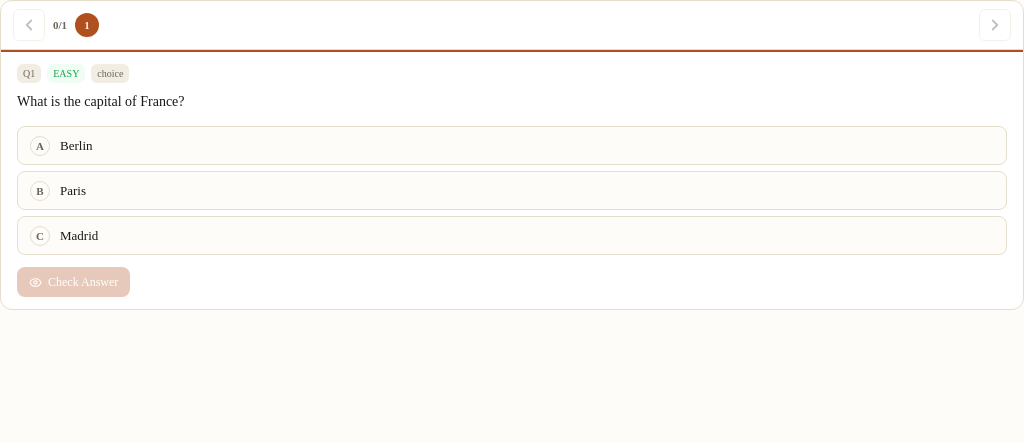
QuizViewer smoke › marks a wrong choice selection as incorrect and highlights both options
Step 1. Click the button "A Berlin" → (76, 145), box x1=17 y1=126 x2=1007 y2=165
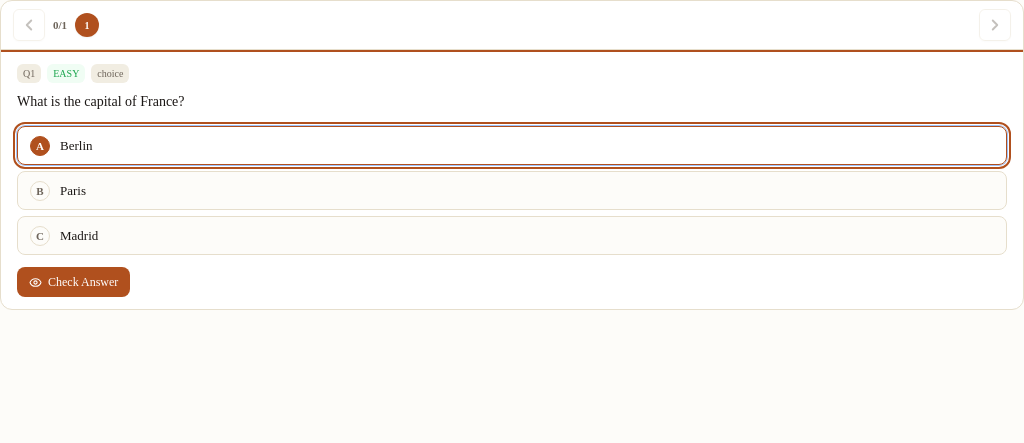
Step 2. Click the button "Check Answer" → (74, 282), box x1=17 y1=267 x2=130 y2=297
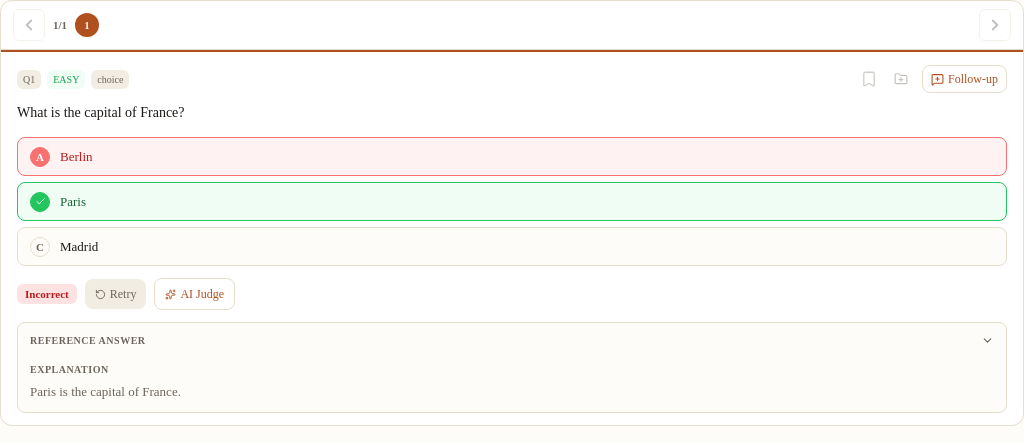
Check: the text "Incorrect" is shown, box x1=17 y1=284 x2=77 y2=304
